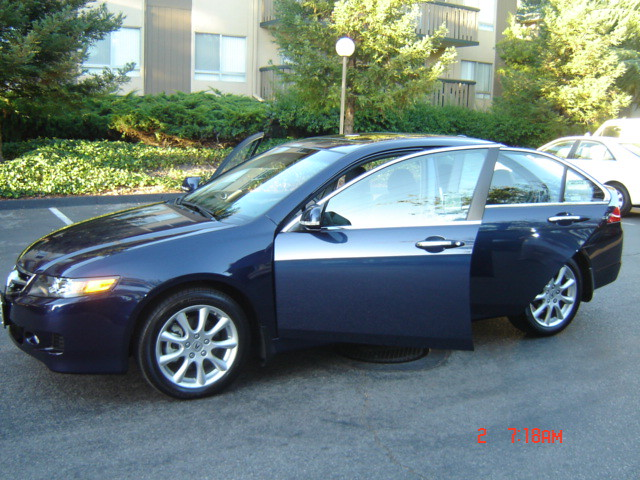car: (6, 136, 626, 415)
